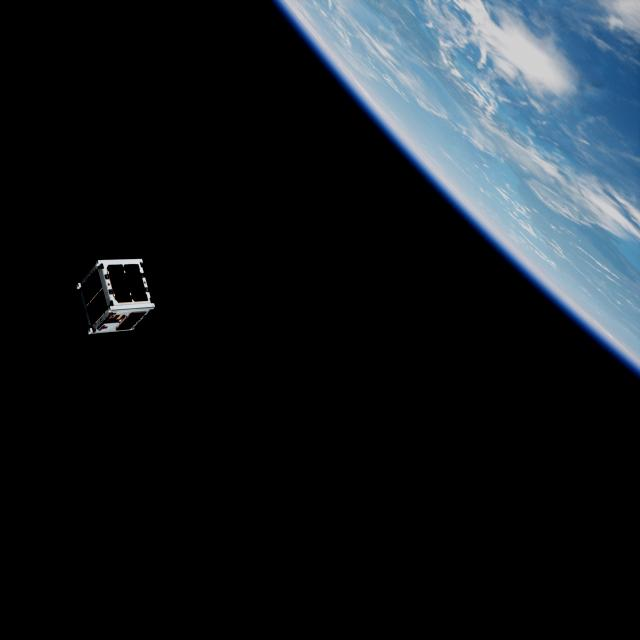medium_debris: (76, 255, 163, 342)
